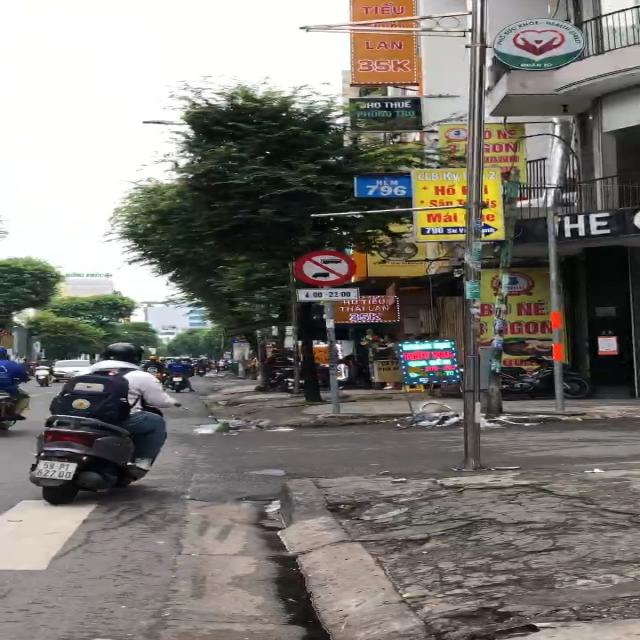Bien bao cam xe oto khach va xe oto tai: (288, 248, 366, 288)
